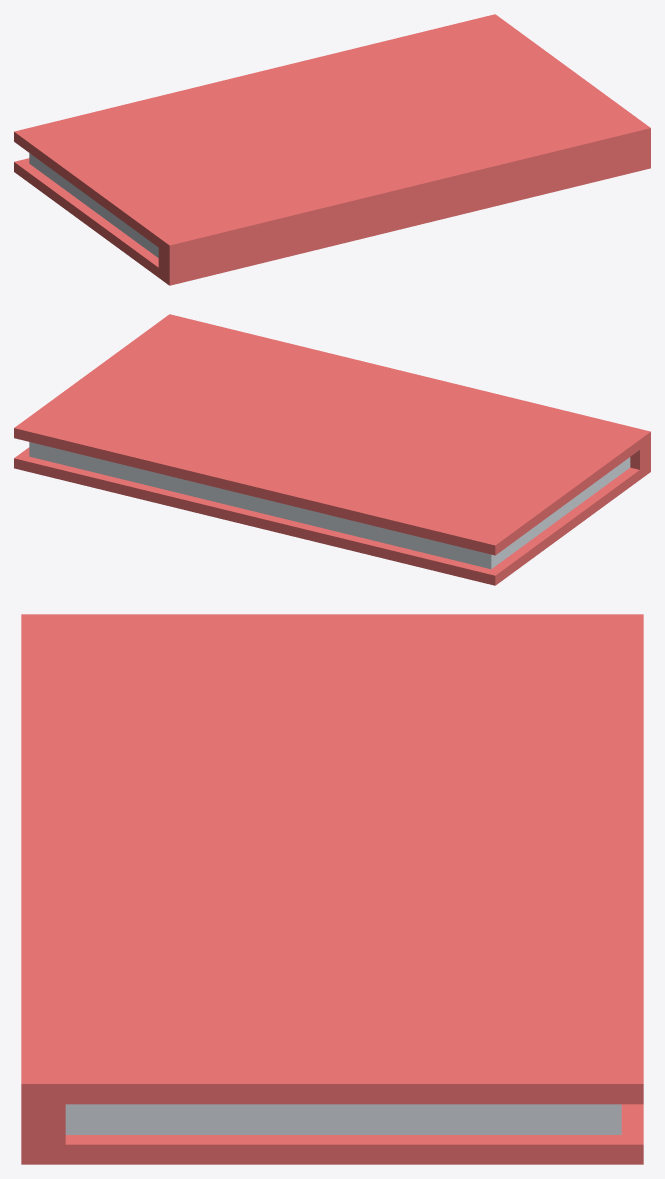
Rendered from book-02.fbx.
3 renders of one model, top to bottom at view 1: azimuth 30°, elevation 25°; view 2: azimuth 150°, elevation 25°; view 3: azimuth 270°, elevation 25°, orthographic. The views are drawn at different scales.
Parts seen in each view (by area): view 1: book-02; view 2: book-02; view 3: book-02.
Part boxes in pixels (<box>): book-02: <box>14,14,650,285</box>; book-02: <box>14,314,650,585</box>; book-02: <box>21,614,643,1164</box>.
Size of the model in its own units: 25 by 2 by 14.
